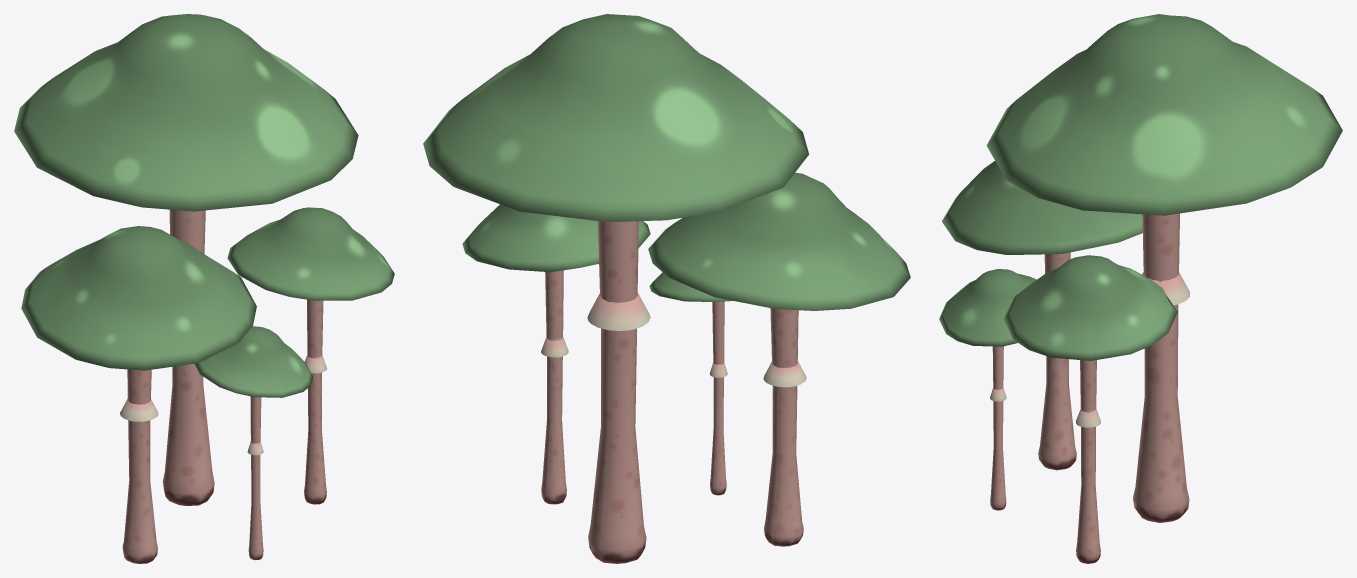
File: mushroom3.glb
3 views of the same model, side by side, from view 1: azimuth 30°, elevation 25°; view 2: azimuth 150°, elevation 25°; view 3: azimuth 270°, elevation 25° (orthographic). The views are drawn at different scales.
Visible parts, largest first — view 1: Object_5.002; view 2: Object_5.002; view 3: Object_5.002.
Part boxes in pixels (x1=…): Object_5.002: x1=14, y1=14, x2=394, y2=563; Object_5.002: x1=423, y1=14, x2=910, y2=563; Object_5.002: x1=939, y1=14, x2=1342, y2=563.
Bounding box in the file's own units: 2.43 × 3.05 × 2.29.
1 material, 1 textured.
